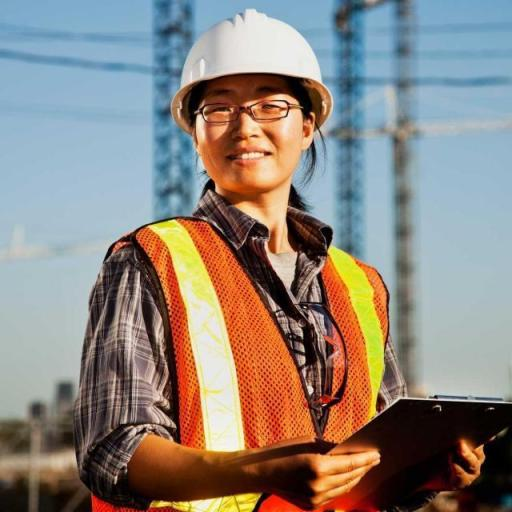Person: (48, 3, 498, 512), (62, 8, 434, 510)
goggles: (186, 95, 309, 124)
helmet: (150, 0, 364, 98)
none: (246, 430, 398, 512), (432, 424, 504, 501)
vest: (127, 216, 411, 442)
